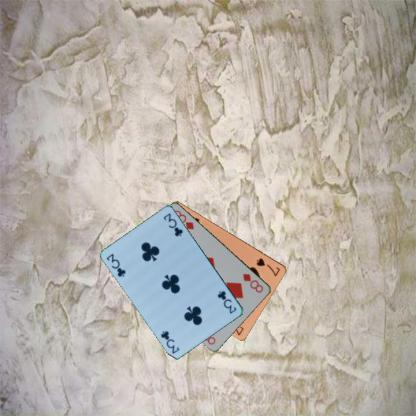3c: (215, 288, 238, 315), (104, 251, 127, 278)
7s: (254, 256, 282, 278)
8d: (240, 271, 265, 294)
